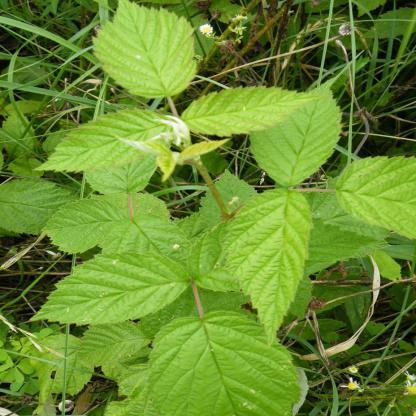Raspberry leaf: (146, 310, 296, 416), (223, 188, 312, 346), (19, 250, 197, 326), (90, 0, 200, 106), (246, 76, 342, 188), (33, 104, 182, 170), (181, 80, 319, 140), (334, 154, 415, 242)
